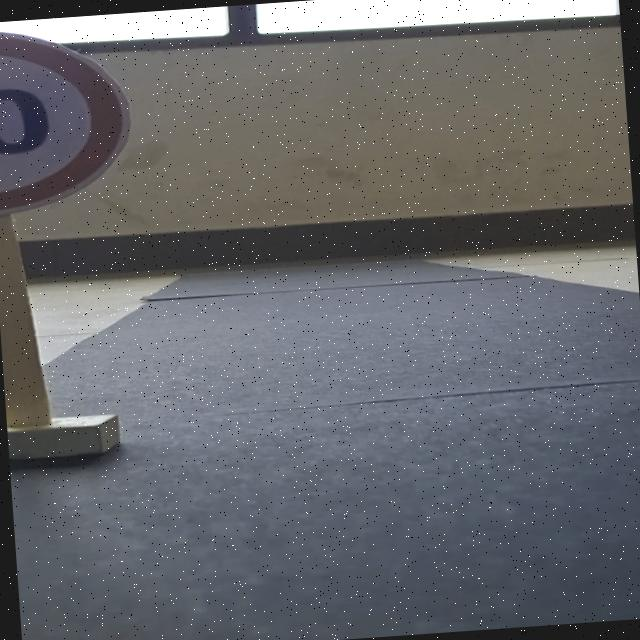Speed60: (0, 17, 133, 222)
